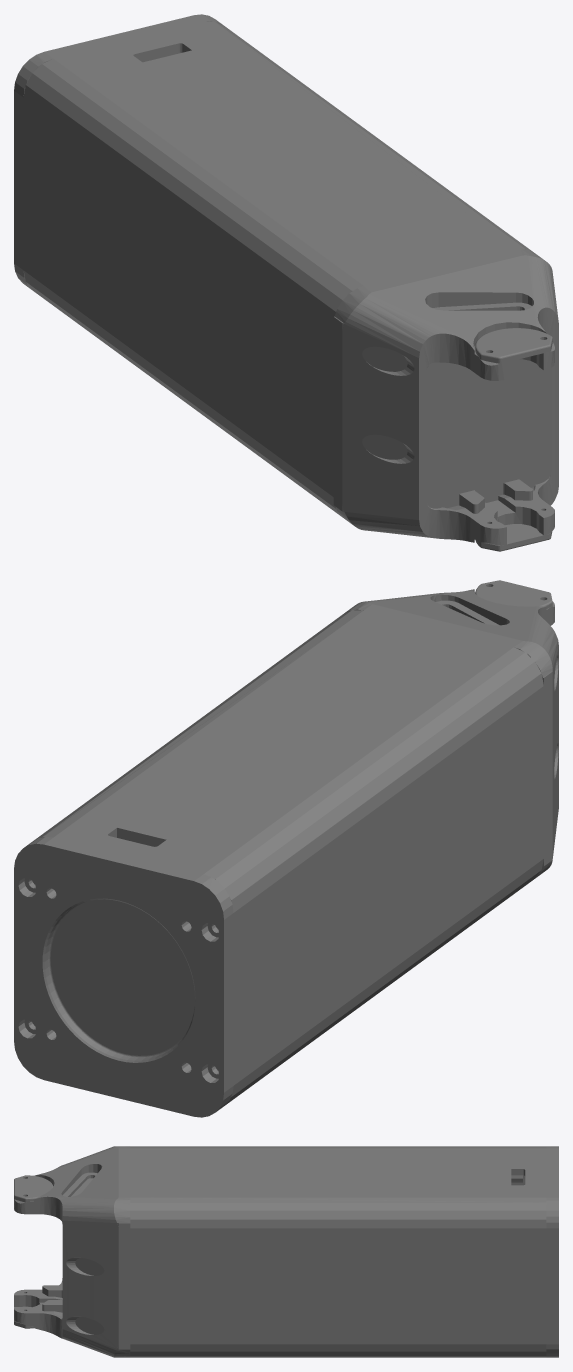
File: lh_hand_base_link_vis.obj
3 views of the same model, one above another, from view 1: azimuth 30°, elevation 25°; view 2: azimuth 150°, elevation 25°; view 3: azimuth 270°, elevation 25° (orthographic). The views are drawn at different scales.
Visible parts, largest first — view 1: lh_hand_base_link; view 2: lh_hand_base_link; view 3: lh_hand_base_link.
Part boxes in pixels (x1,y1,x2,y2): lh_hand_base_link: (14,14,558,551); lh_hand_base_link: (14,580,558,1117); lh_hand_base_link: (14,1146,558,1357).
Bounding box in the file's own units: 0.07 × 0.075 × 0.2345.
Materials: 1 (1 with a texture image).
